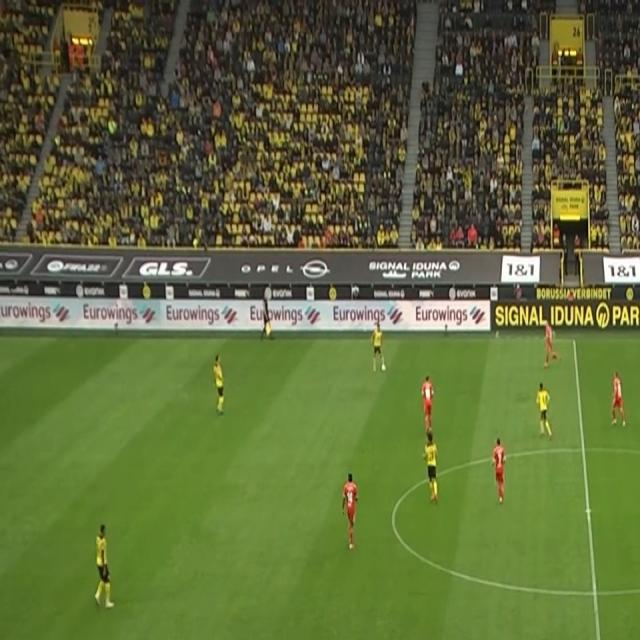ball: (380, 362, 387, 374)
